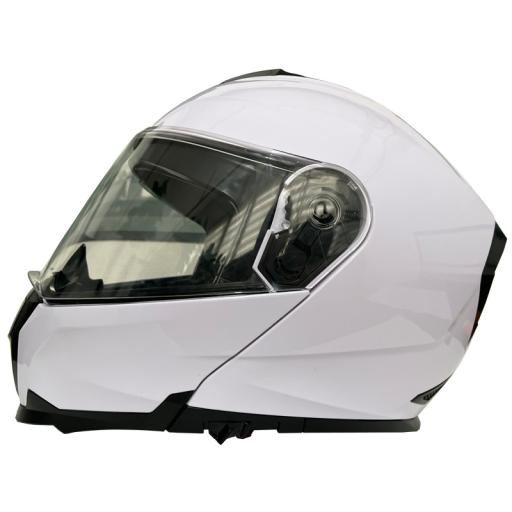helmet-detection: (6, 37, 512, 494)
